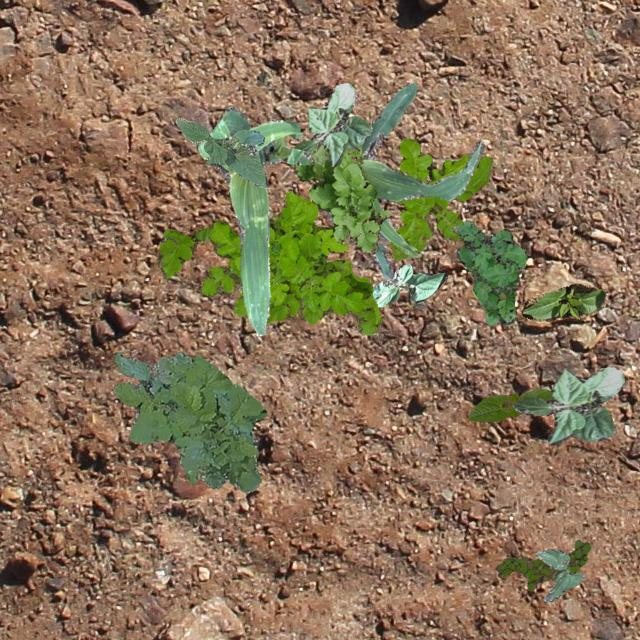crop: (326, 82, 484, 278), (196, 106, 312, 334), (512, 366, 624, 444), (294, 81, 372, 166), (175, 116, 268, 186), (520, 282, 606, 320), (372, 262, 446, 306), (466, 388, 554, 420), (534, 548, 584, 602)
weed: (157, 190, 380, 334), (112, 351, 266, 492), (388, 138, 492, 260), (294, 142, 389, 254), (450, 220, 526, 324), (494, 538, 590, 590)
